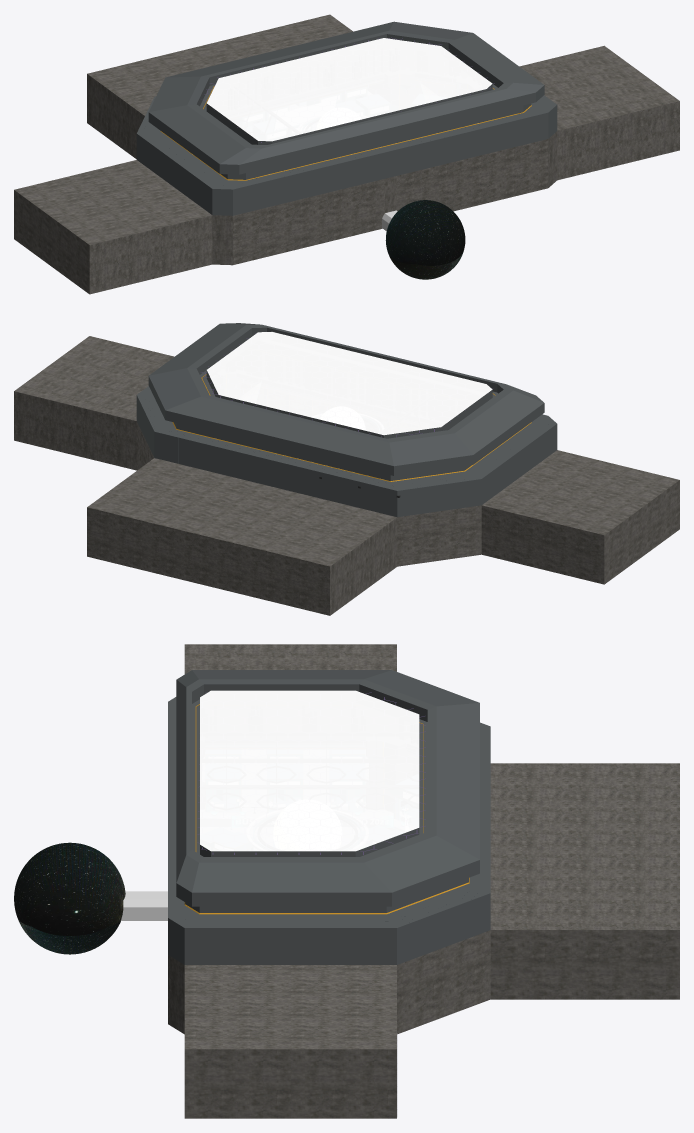
Rendered from BGVexpo002-1024-v1--1979965060.glb.
The picture shows the model from 3 angles, top to bottom: view 1: azimuth 30°, elevation 25°; view 2: azimuth 150°, elevation 25°; view 3: azimuth 270°, elevation 25°; orthographic projection. The views are drawn at different scales.
Parts seen in each view (by area): view 1: Plane001_1, Plane031_1, Plane001, Plane031_2, Cube004, Plane001_2; view 2: Plane001_1, Plane031_1, Plane001, Plane031_2, Plane001_2; view 3: Plane001_1, Plane031_1, Plane031_2, Plane001, Cube004, Cube018.
Part boxes in pixels (x1,y1,x2,y2): Plane001_1: (14,14,679,294); Plane031_1: (148,21,544,174); Plane001: (136,95,557,228); Plane031_2: (207,38,492,141); Cube004: (385,200,465,279); Plane001_2: (160,105,531,180); Plane001_1: (14,336,679,615); Plane031_1: (148,323,544,475); Plane001: (136,386,557,517); Plane031_2: (207,332,492,435); Plane001_2: (172,422,531,481); Plane001_1: (168,644,679,1118); Plane031_1: (176,670,479,906); Plane031_2: (200,690,419,851); Plane001: (168,697,490,964); Cube004: (14,842,125,954); Cube018: (121,891,167,920).
Size of what is drawn, in the model's own units: 143 by 29.4 by 99.36.
Materials: 23 (8 with a texture image).
